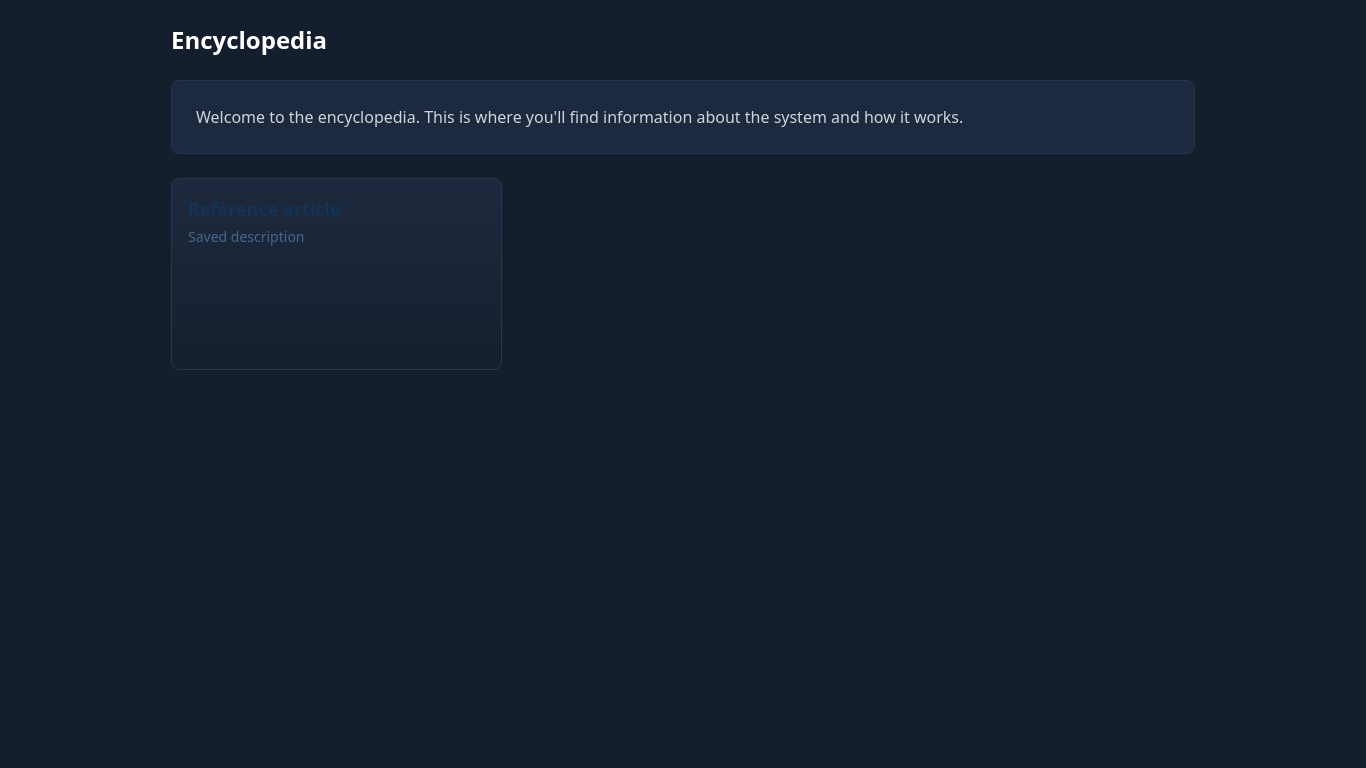
Test: real Encyclopedia reader and editorial consumers › ordinary readers can open preserved content but have no authoring controls
This screenshot has width=1366, height=768.
Click the button "Reference article Saved description" at (336, 274), box top-left (171, 178), bottom-right (502, 370)
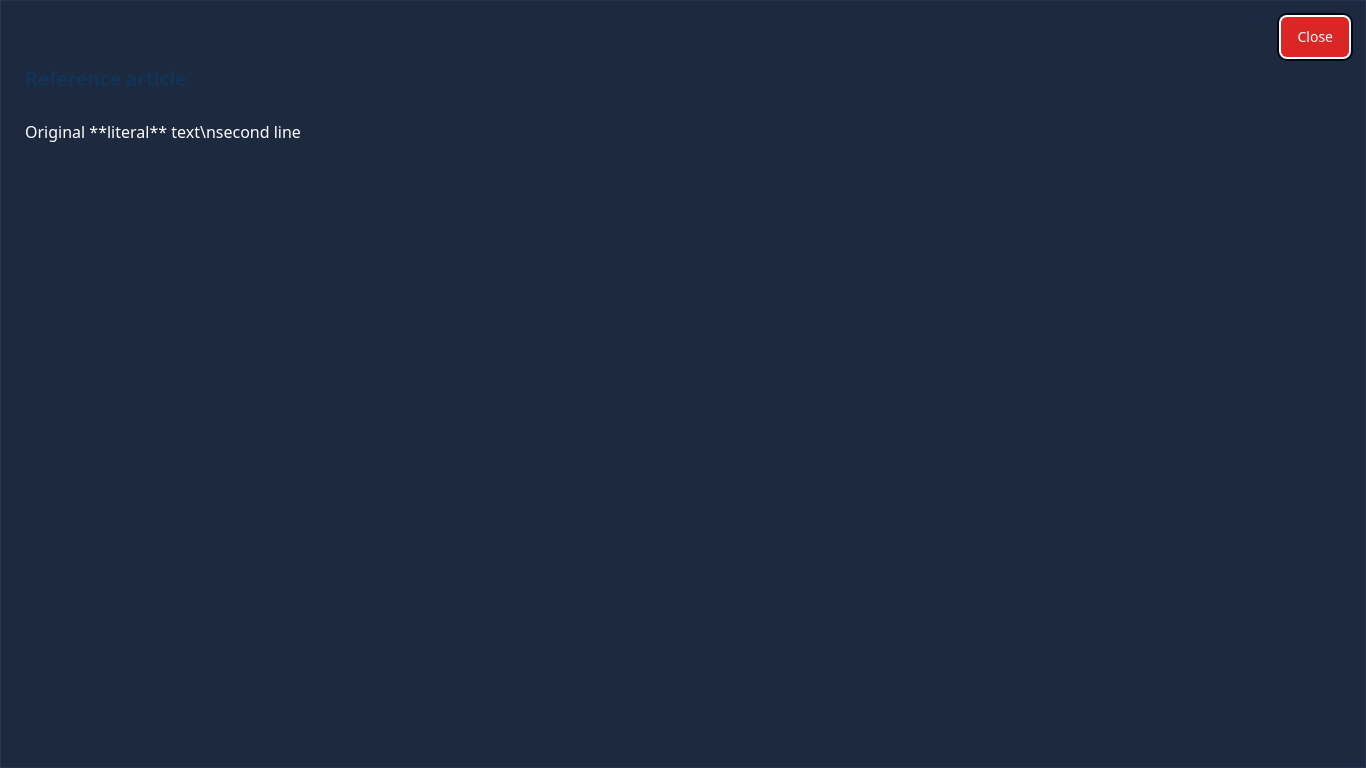
Check: the dialog "Reference article" shows "Original **literal** text\\nsecond line", box top-left (25, 121), bottom-right (301, 143)
Click the button with aria-label "Close encyclopedia entry" at (1315, 37), box top-left (1282, 17), bottom-right (1349, 57)
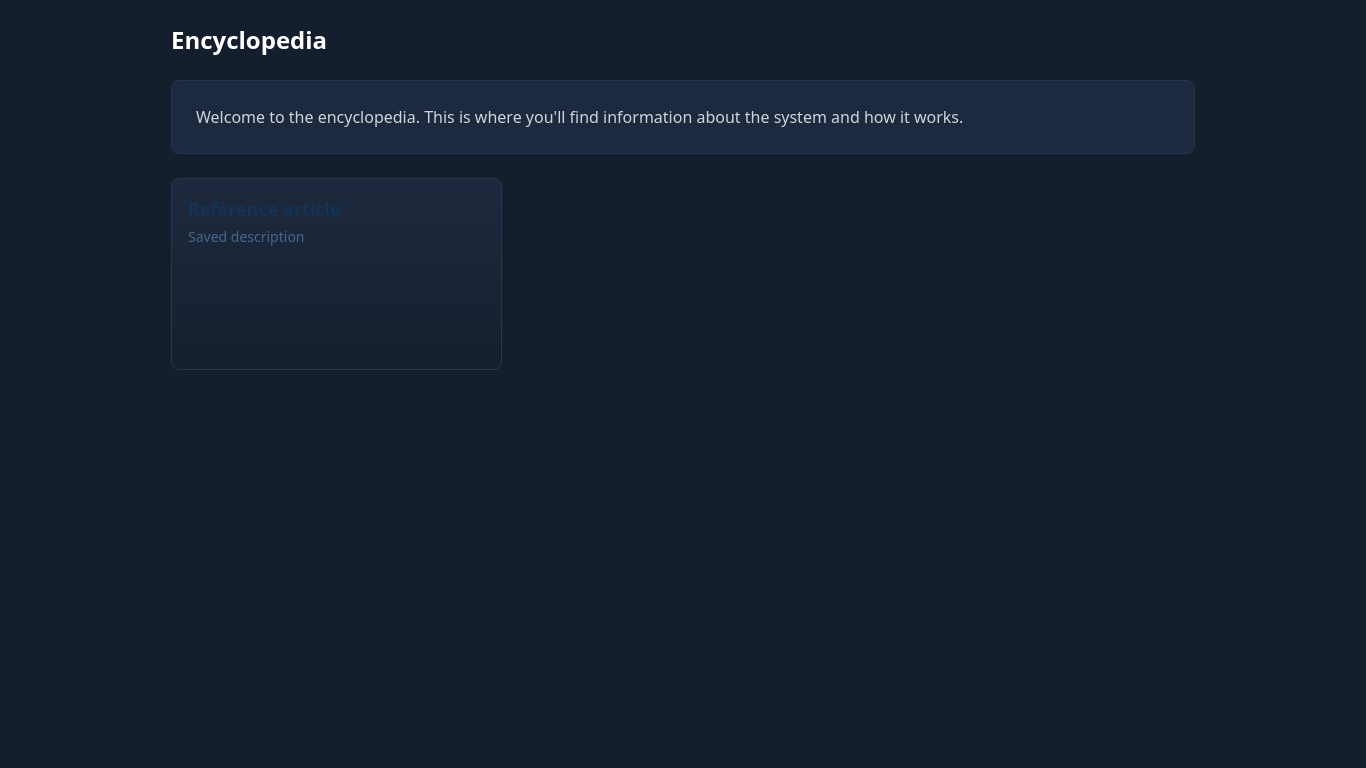
Check: the dialog is gone
